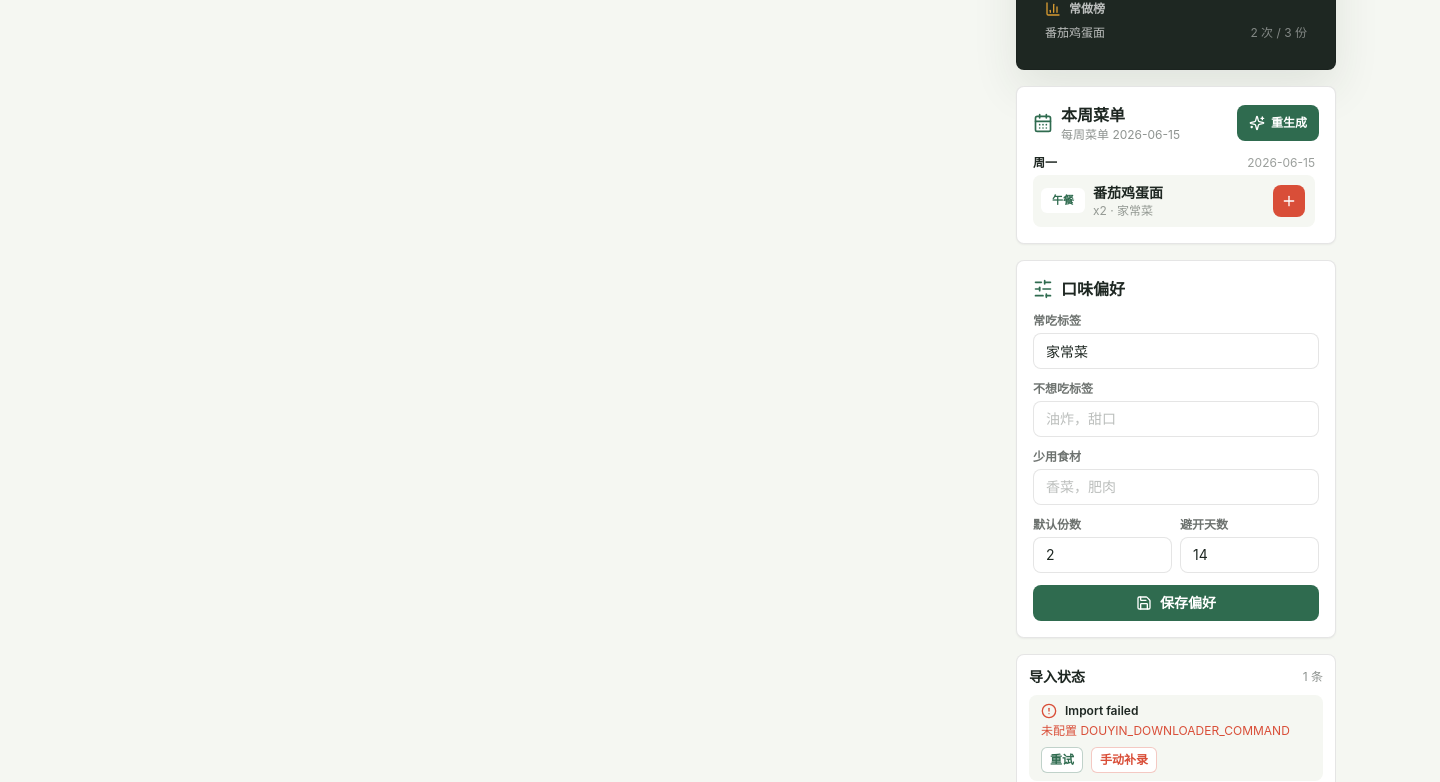
App › recovers failed import jobs into manual mode
The image size is (1440, 782).
(page scrolled)
Click the button "手动补录".
click(1124, 760)  # box [1091, 746, 1157, 772]
(page scrolled)
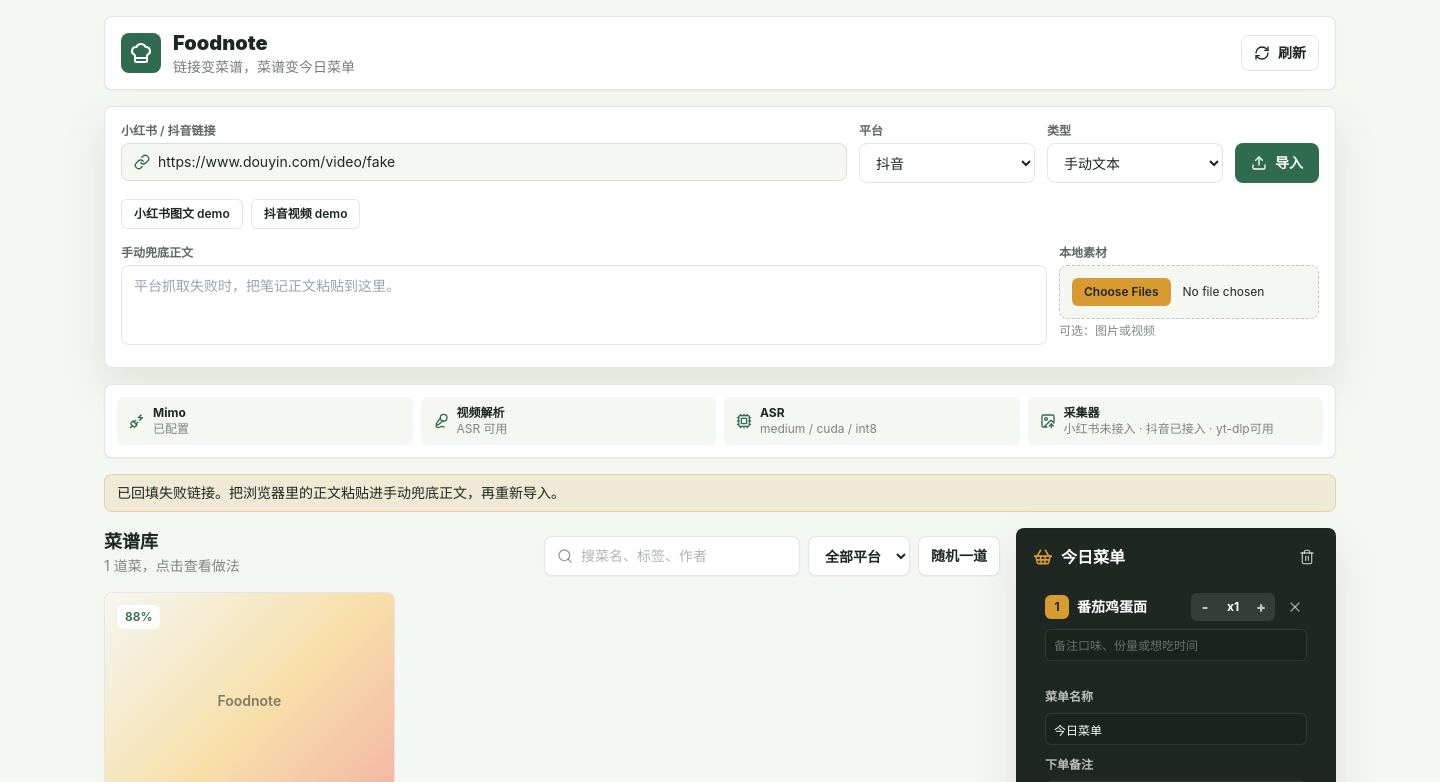
Now the field labelled "小红书 / 抖音链接" holds "https://www.douyin.com/video/fake", box [158, 152, 834, 172]
Now the dropdown labelled "平台" shows "抖音", box [859, 143, 1035, 183]
Now the dropdown labelled "类型" shows "手动文本", box [1047, 143, 1223, 183]
